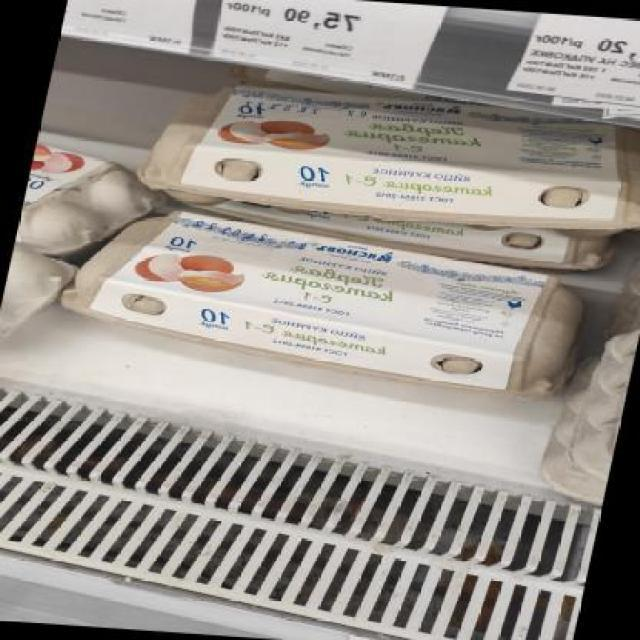Egg: (50, 203, 612, 399), (130, 81, 639, 237)
